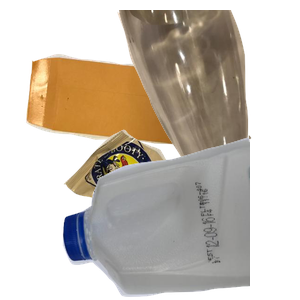glass: (115, 10, 300, 190)
paper: (23, 51, 206, 189)
plastic: (60, 135, 300, 300)
trash: (61, 127, 260, 300)
